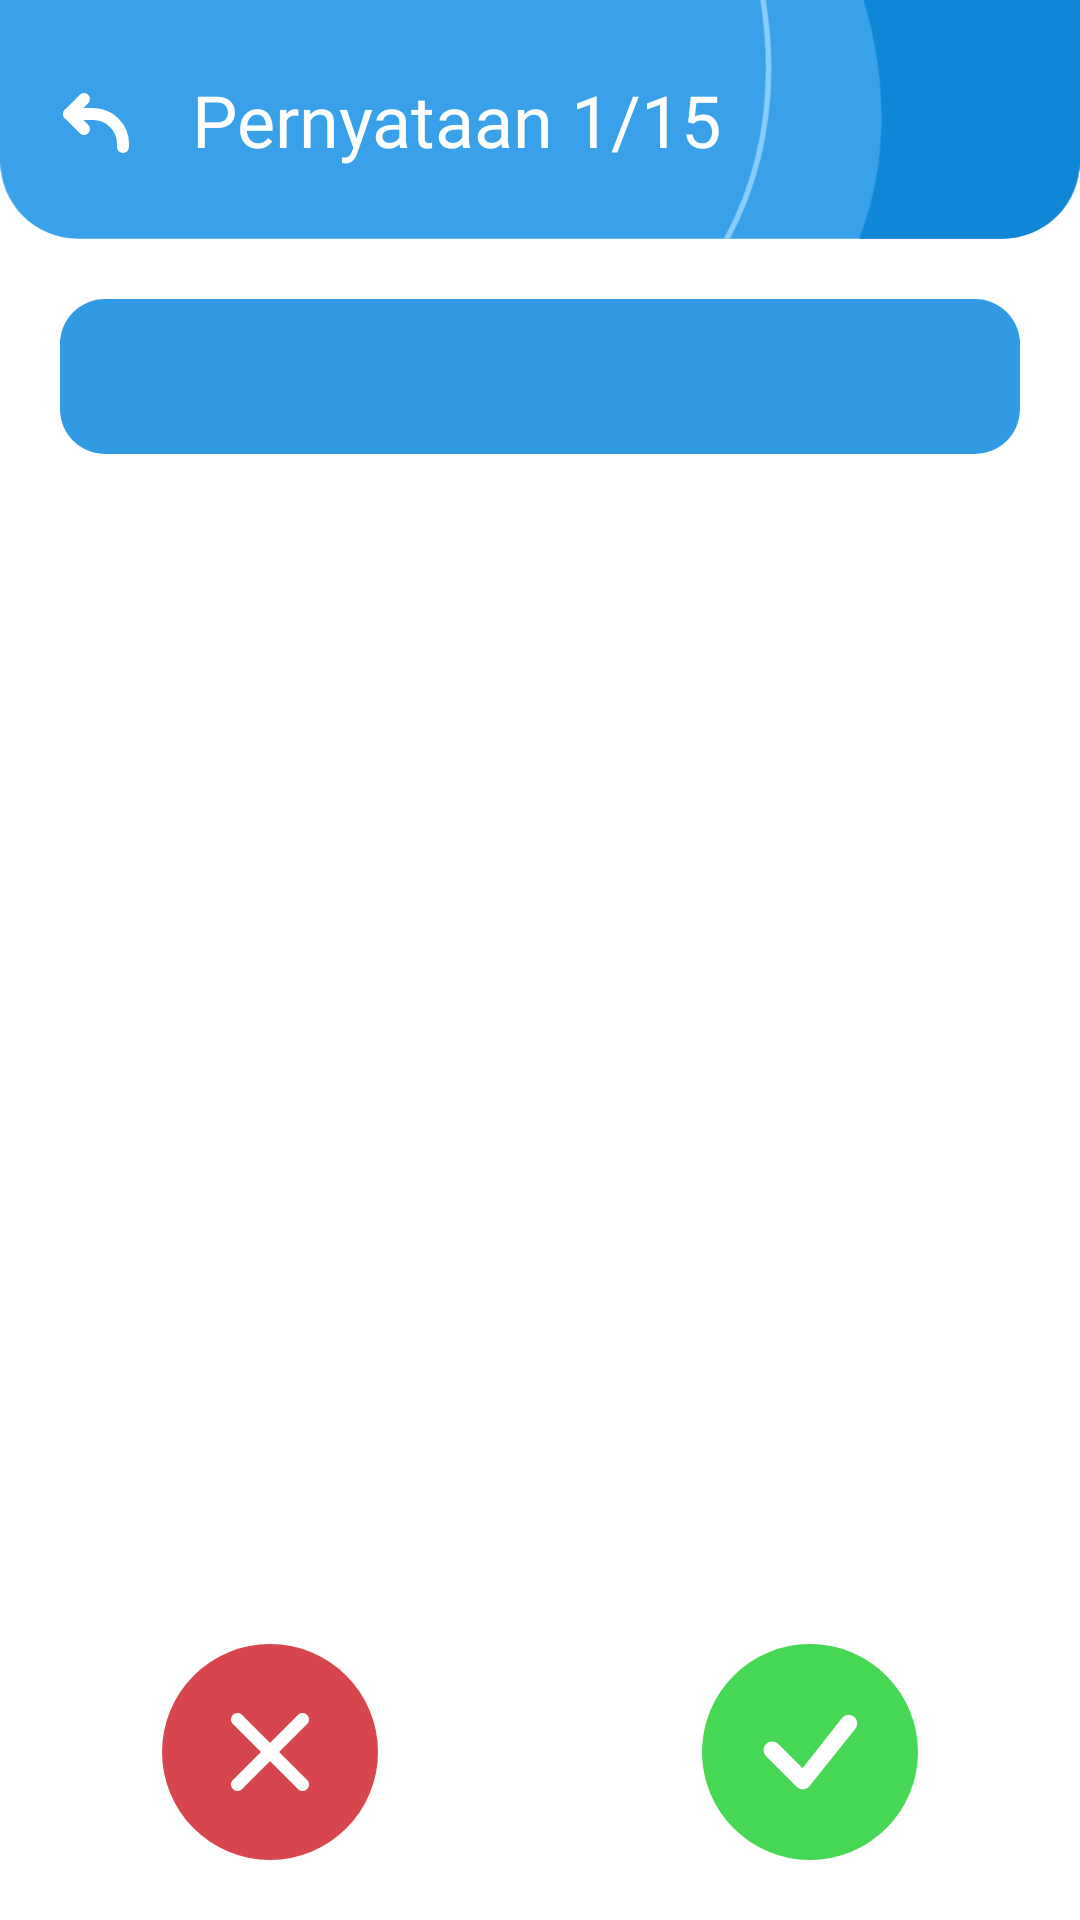

Where icons sit on this 1080px×1920px app screen, as (x1=x1, y1=y1, x2=x2, y2=y2):
arrow back: (x1=63, y1=93, x2=129, y2=153)
btnno: (x1=162, y1=1644, x2=378, y2=1860)
btnyes: (x1=702, y1=1644, x2=918, y2=1860)
